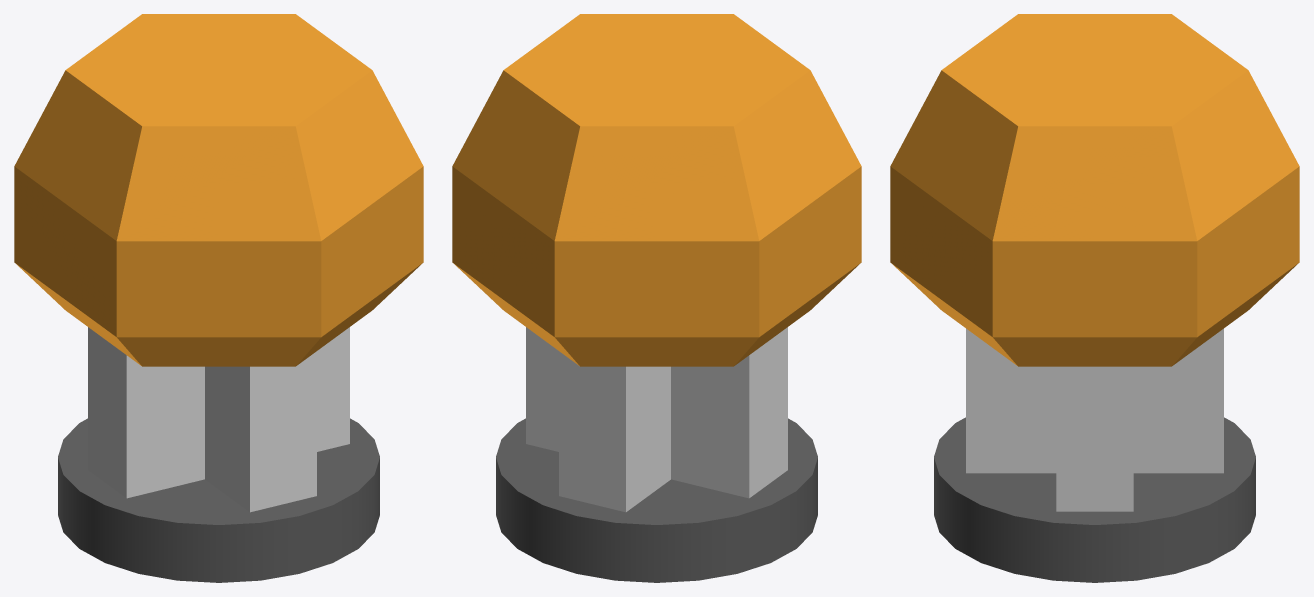
The model's file is gems_topaz_6.obj.
The picture shows the model from 3 angles, left to right: view 1: azimuth 30°, elevation 25°; view 2: azimuth 150°, elevation 25°; view 3: azimuth 270°, elevation 25°; orthographic projection.
Parts seen in each view (by area): view 1: mergedBlocks; view 2: mergedBlocks; view 3: mergedBlocks.
Boxes of the visible parts, x1,y1,x2,y2 form: mergedBlocks: (14, 14, 423, 582); mergedBlocks: (452, 14, 861, 582); mergedBlocks: (890, 14, 1299, 582).
Size of the model in its own units: 1.1 by 1.52 by 1.27.
